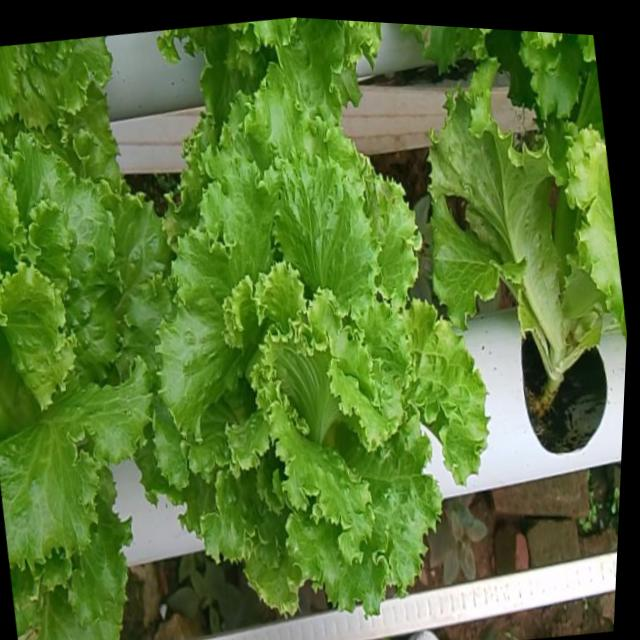Mature: (163, 100, 496, 634), (0, 145, 179, 593)
